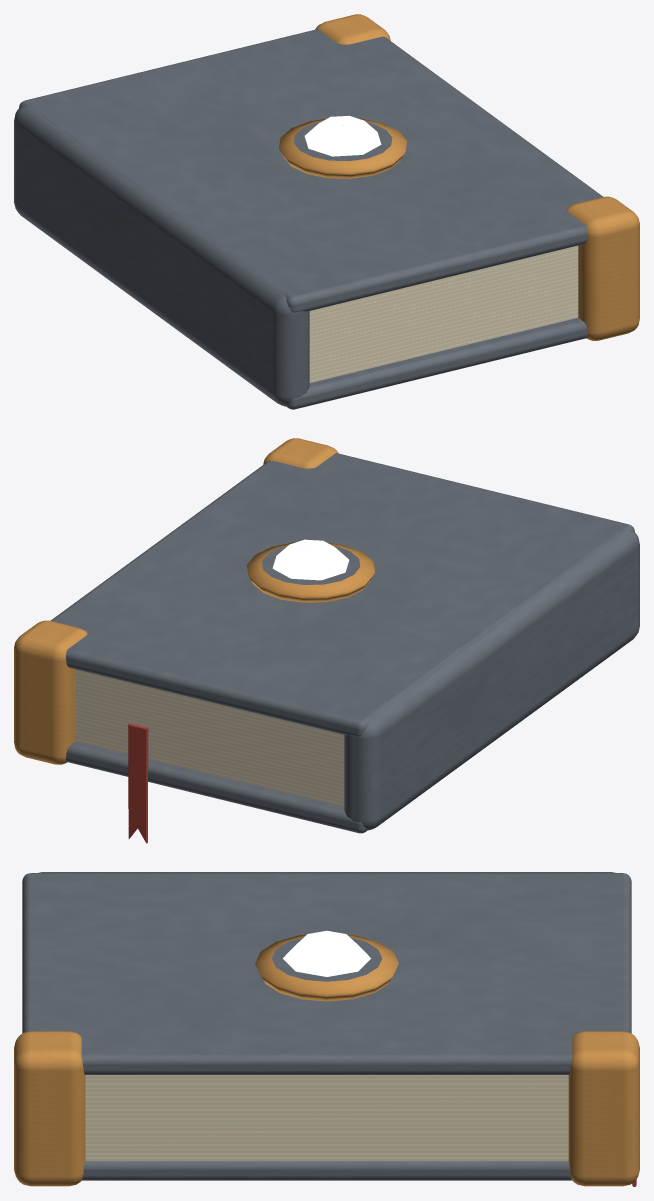
The model's file is book_invisibility.glb.
The picture shows the model from 3 angles, top to bottom: view 1: azimuth 30°, elevation 25°; view 2: azimuth 150°, elevation 25°; view 3: azimuth 270°, elevation 25°; orthographic projection. The views are drawn at different scales.
Visible parts, largest first — view 1: book_invisibility; view 2: book_invisibility; view 3: book_invisibility.
Boxes of the visible parts, box(x1,y1,x2,y2) form: book_invisibility: box(14, 14, 639, 409); book_invisibility: box(14, 438, 639, 843); book_invisibility: box(14, 872, 639, 1186).
Bounding box in the file's own units: 0.167 × 0.088 × 0.226.
Materials: 5 (4 with a texture image).
